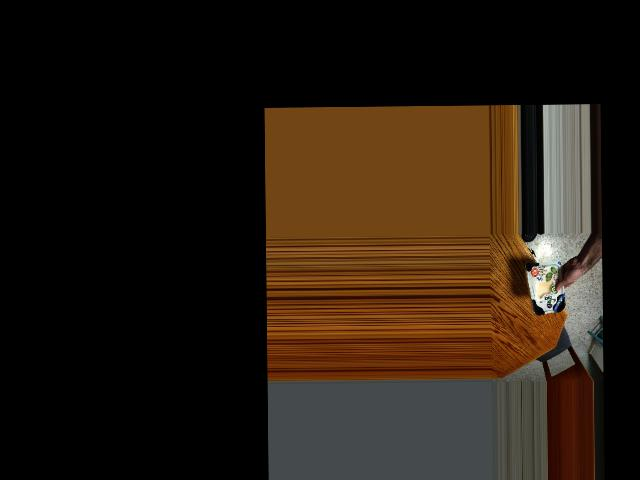cheese: (526, 261, 571, 314)
